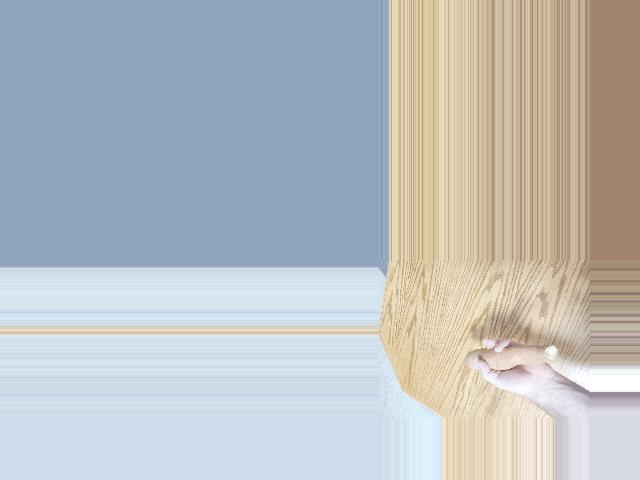sweet_potato: (460, 341, 561, 365)
